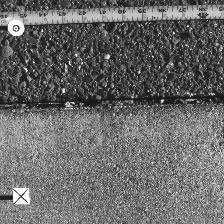circle: (7, 19, 25, 37)
crack: (1, 94, 223, 112)
square: (12, 187, 30, 205)
